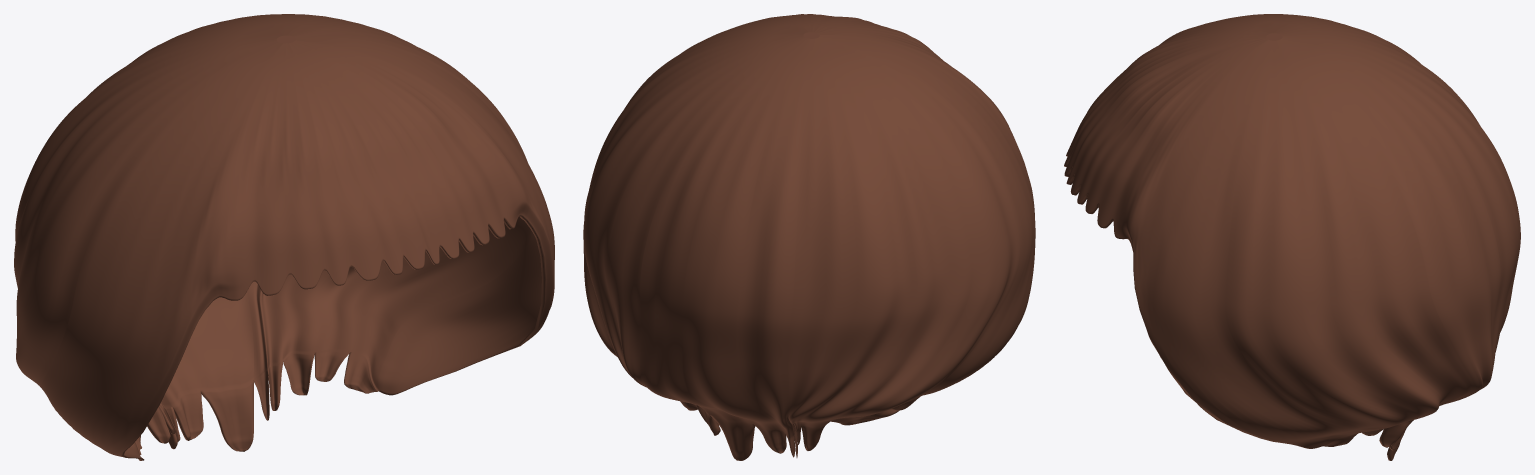
File: long-pashmina.glb
3 renders of one model, left to right at view 1: azimuth 30°, elevation 25°; view 2: azimuth 150°, elevation 25°; view 3: azimuth 270°, elevation 25°, orthographic. The views are drawn at different scales.
Visible parts, largest first — view 1: Hair / rounded long fringe; view 2: Hair / rounded long fringe; view 3: Hair / rounded long fringe.
Boxes of the visible parts, left/top/right/bottom form: Hair / rounded long fringe: left=14, top=14, right=554, bottom=460; Hair / rounded long fringe: left=583, top=14, right=1035, bottom=460; Hair / rounded long fringe: left=1064, top=14, right=1520, bottom=460.
Size of the model in its own units: 0.8406 by 0.778 by 0.7781.
